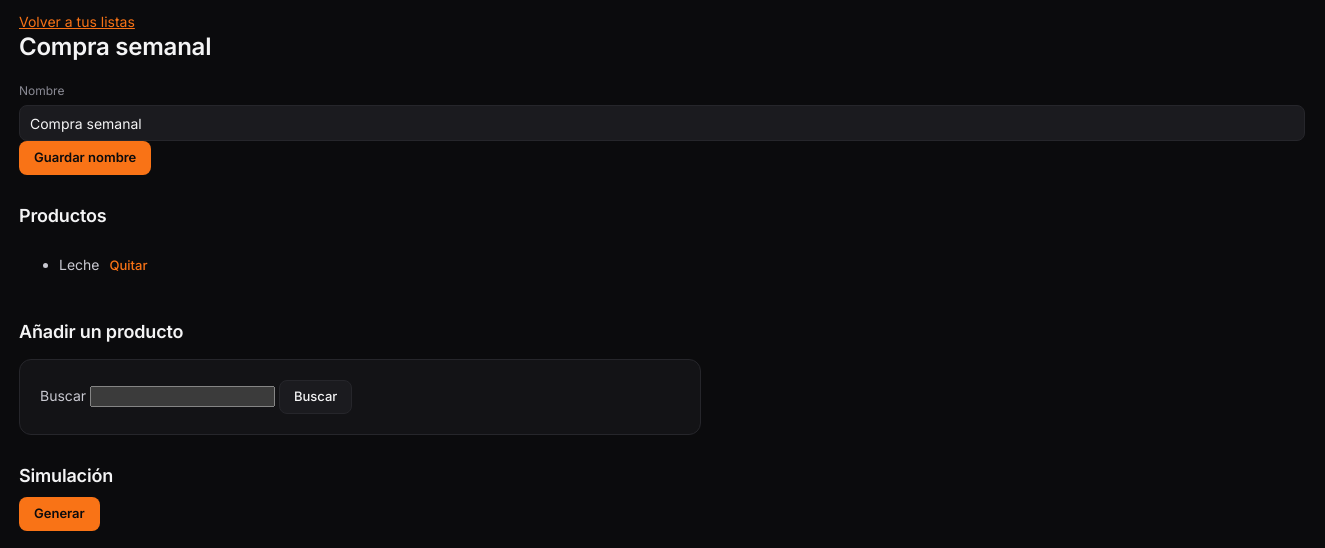
it: ShoppingListDetailPage › renombra la lista
The image size is (1325, 548).
Expected: the heading "Compra semanal" is shown, top-left (19, 32), bottom-right (211, 61)
Replace the text in the field labelled "Nombre" with "Compra del finde" at x=662, y=123, box top-left (19, 105), bottom-right (1305, 141)
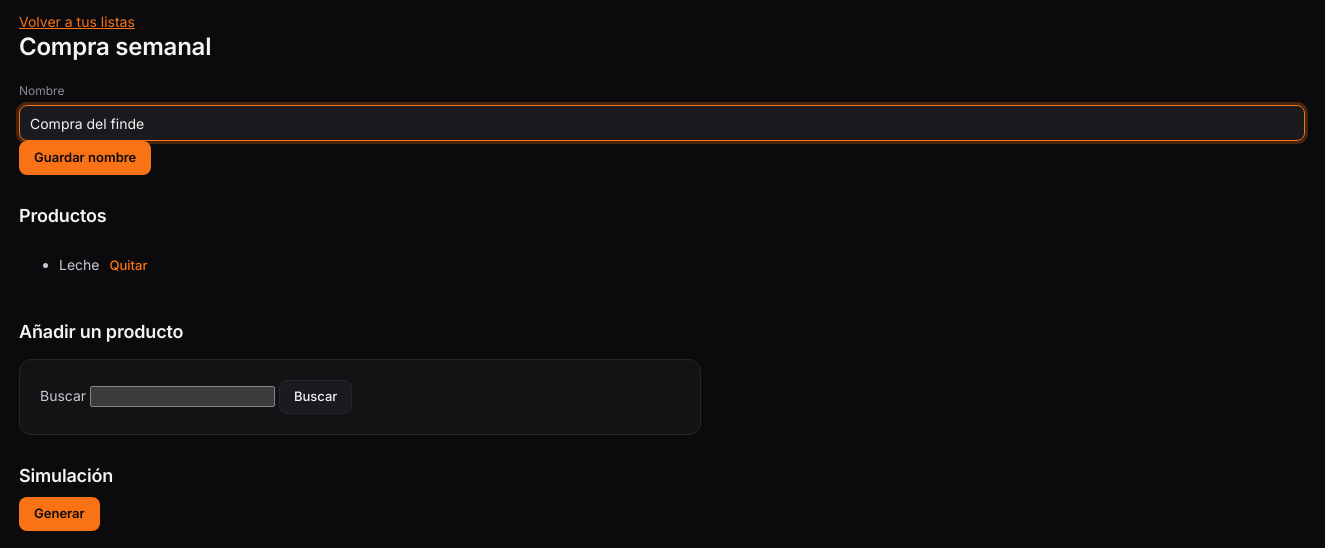
Click the button "Guardar nombre" at x=85, y=158, box top-left (19, 141), bottom-right (151, 175)
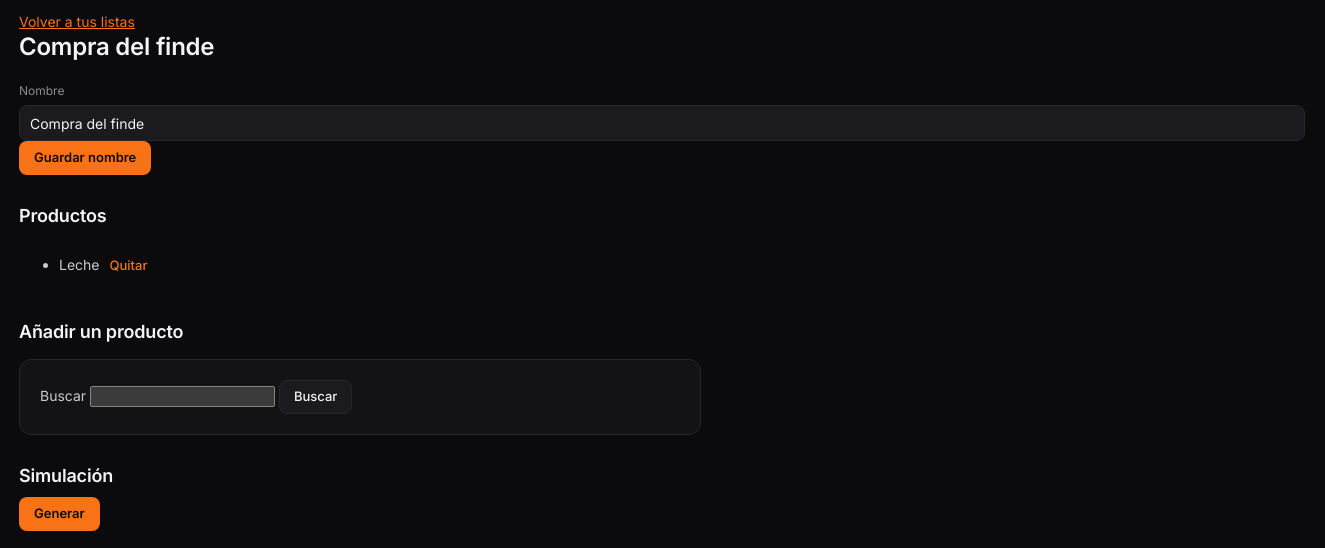
Expected: the heading "Compra del finde" is shown, top-left (19, 32), bottom-right (214, 61)
